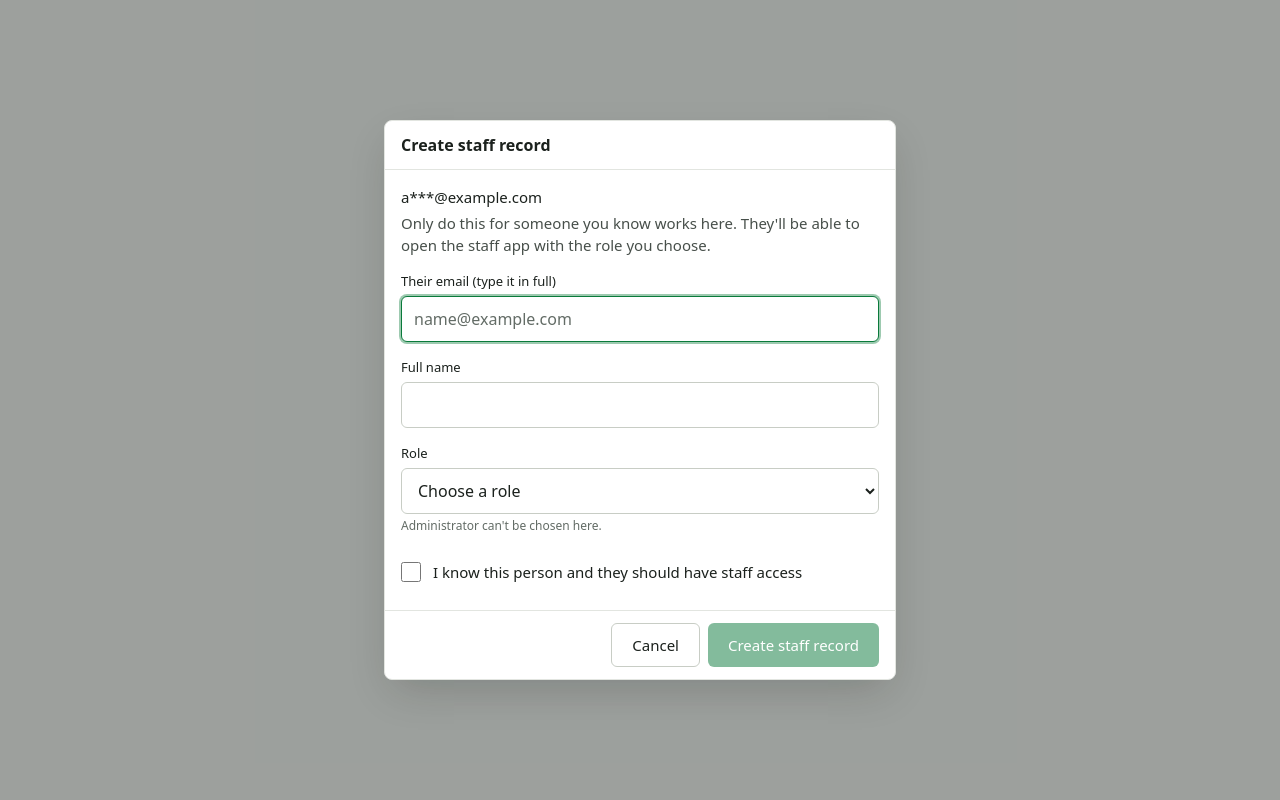
Test case: CreateStaffRecordDialog › leaves the email check to the server when only a masked email is known
Type "Ada Obi" into the field labelled "Full name" at (640, 405), box [401, 382, 879, 428]
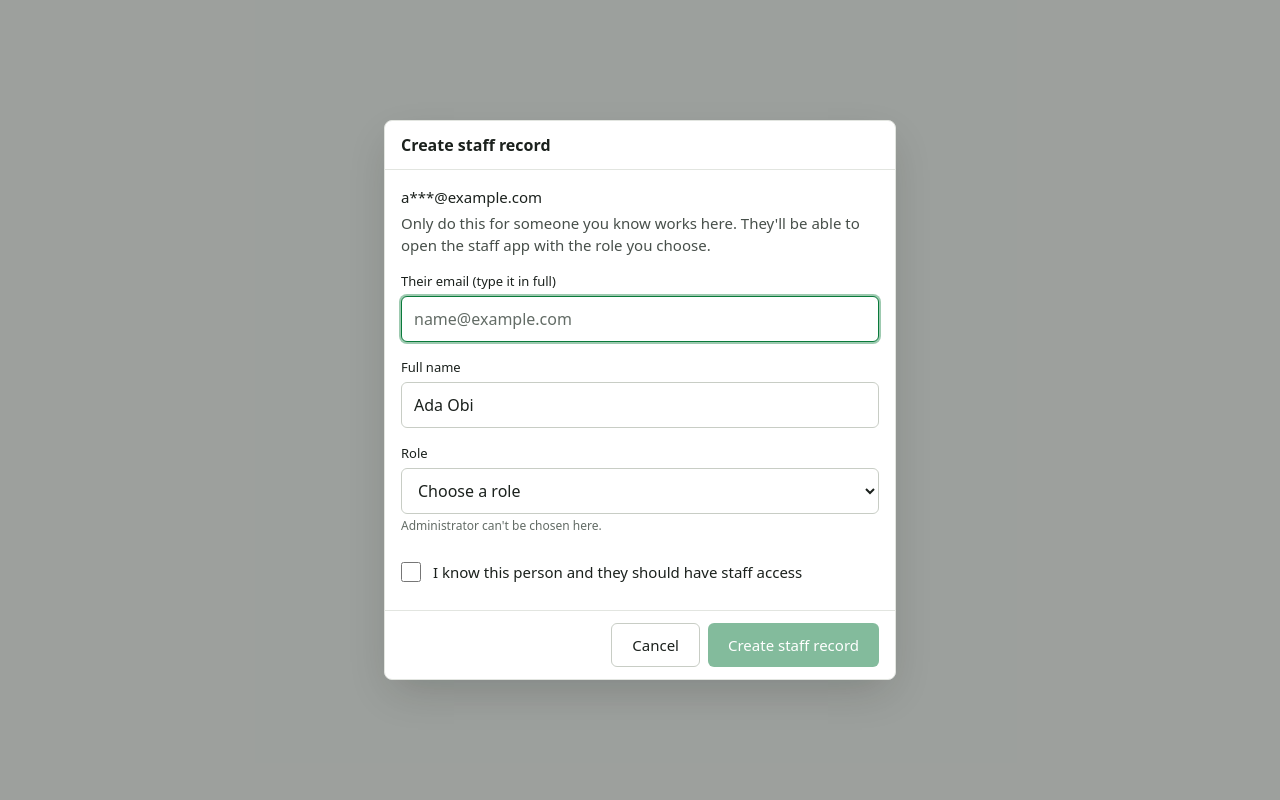
Type "someone@example.com" into the field labelled "Their email (type it in full)" at (640, 319), box [401, 296, 879, 342]
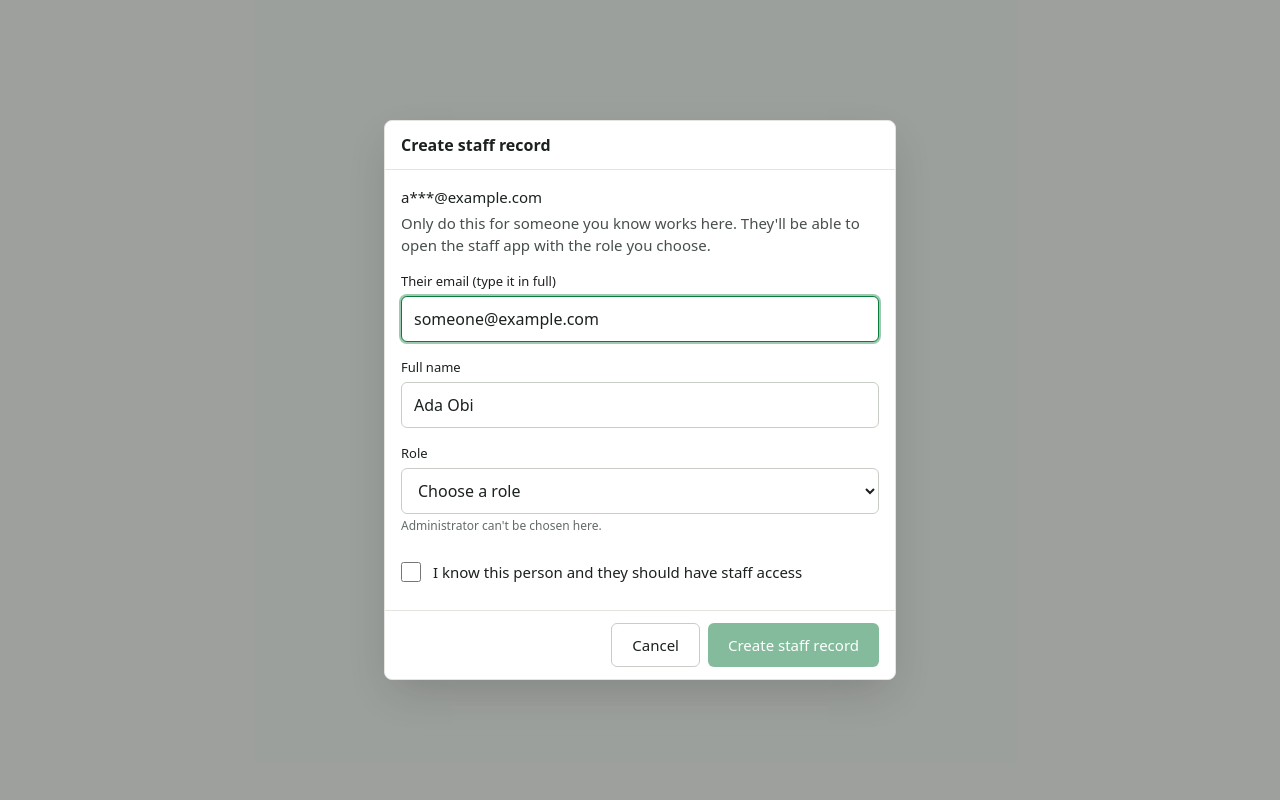
Select "Volunteer" in the dropdown labelled "Role" at (640, 491), box [401, 468, 879, 514]
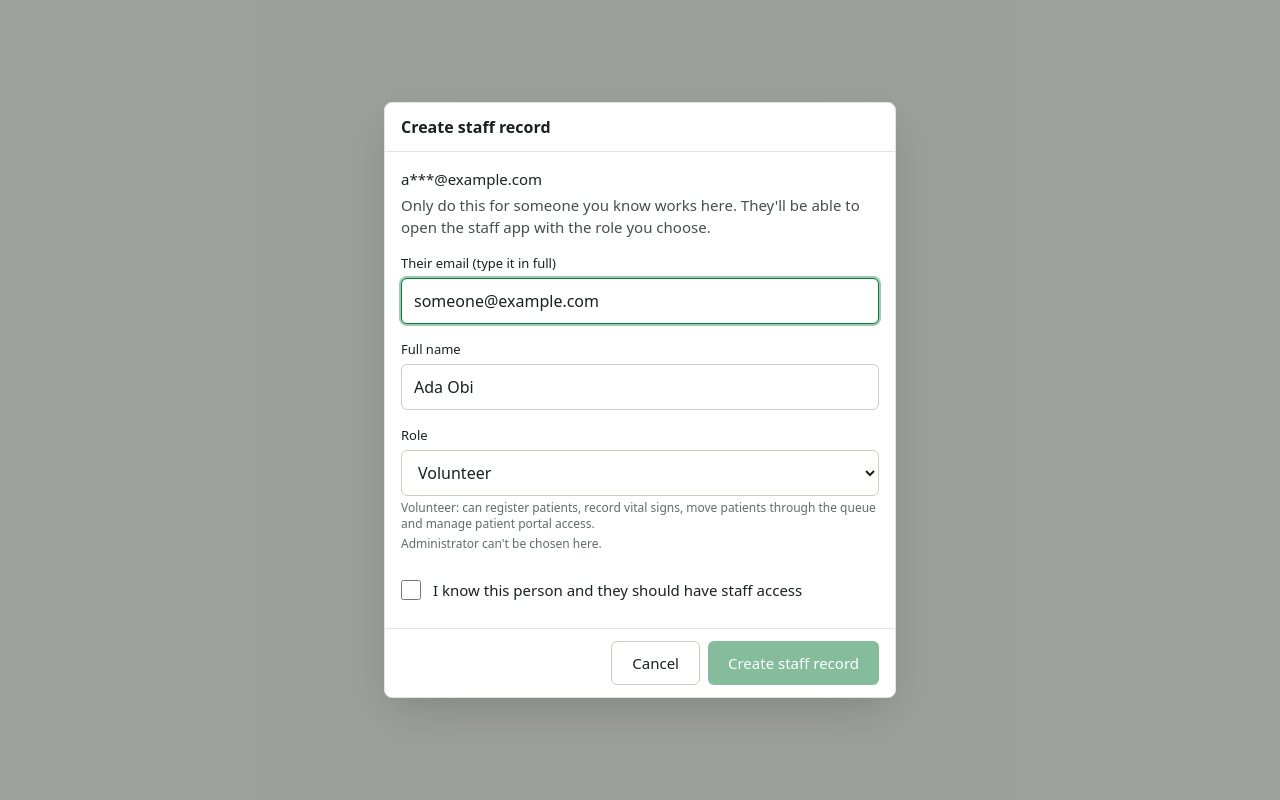
Click the checkbox labelled "I know this person and they should have staff access" at (411, 590), box [401, 580, 421, 600]
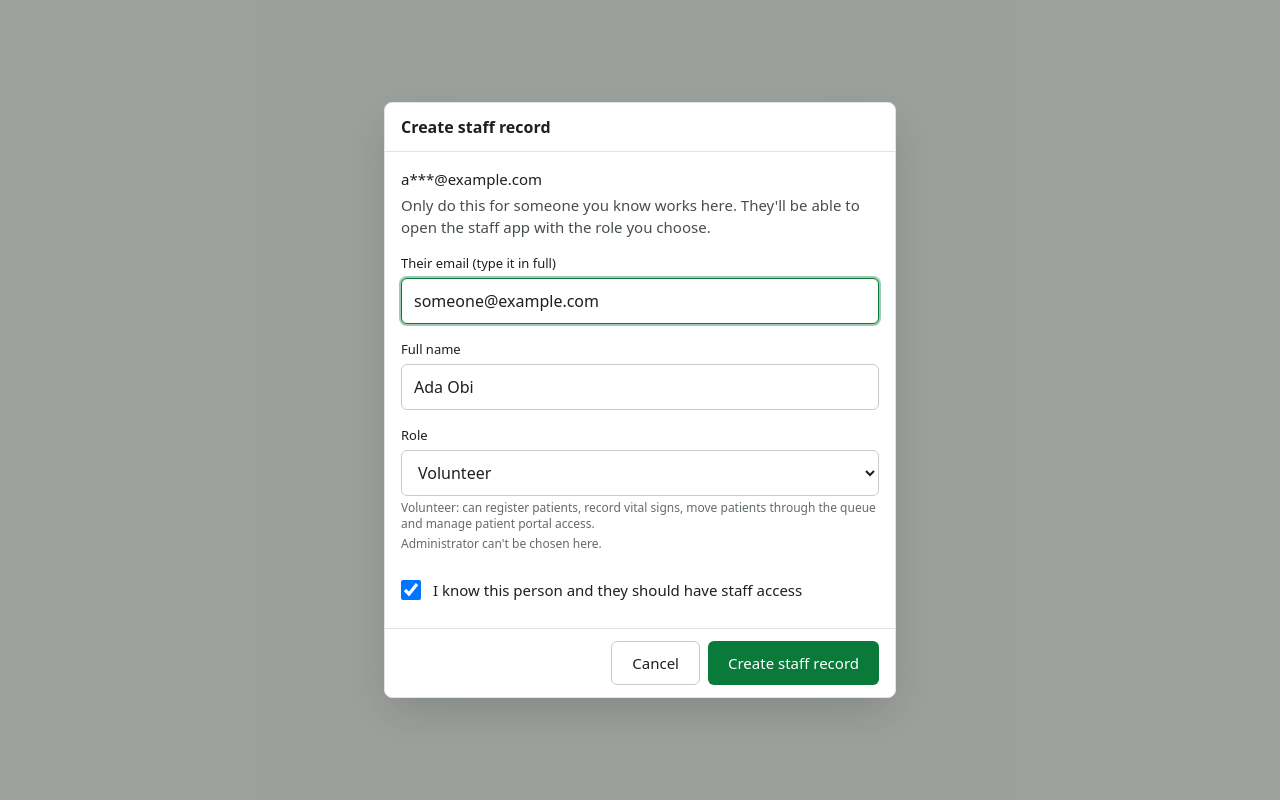
Click the button "Create staff record" at (794, 663), box [708, 641, 879, 685]
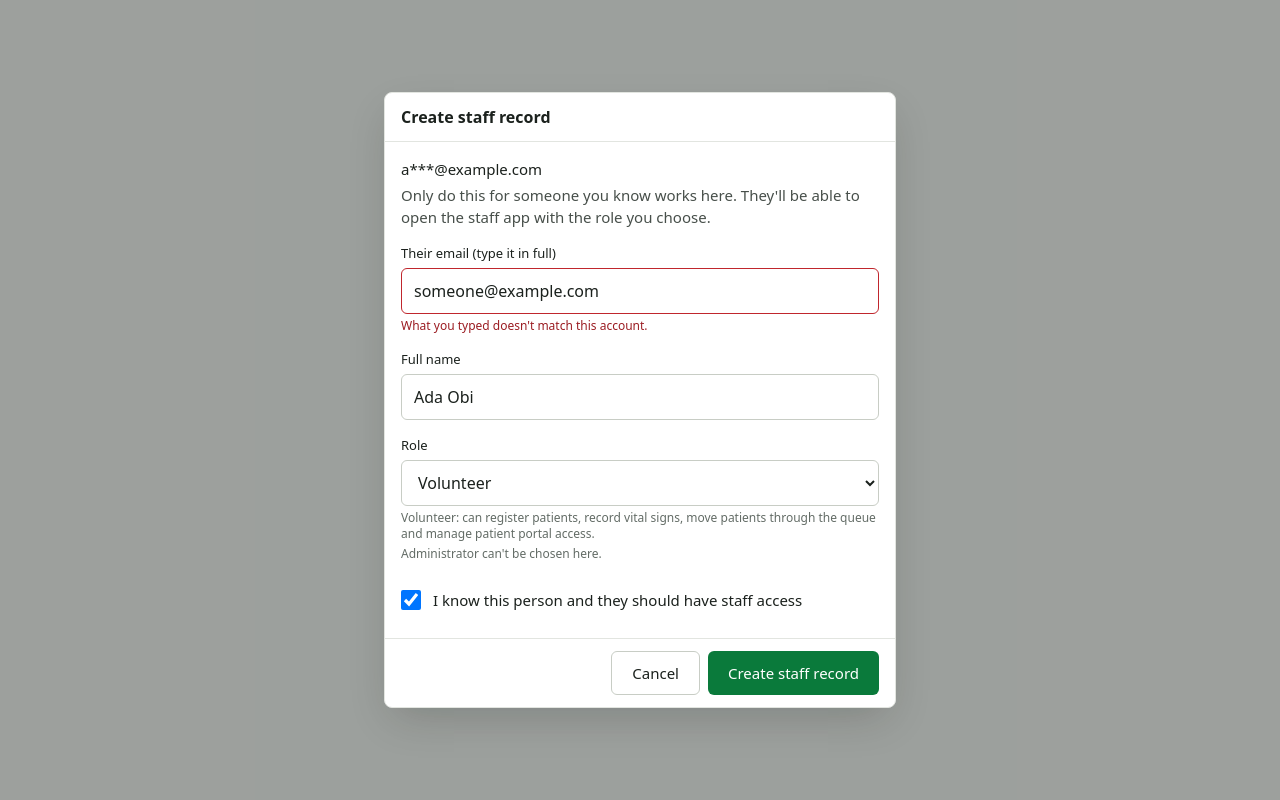
Check: the text "What you typed doesn't match this account." is shown, box [401, 317, 648, 334]
